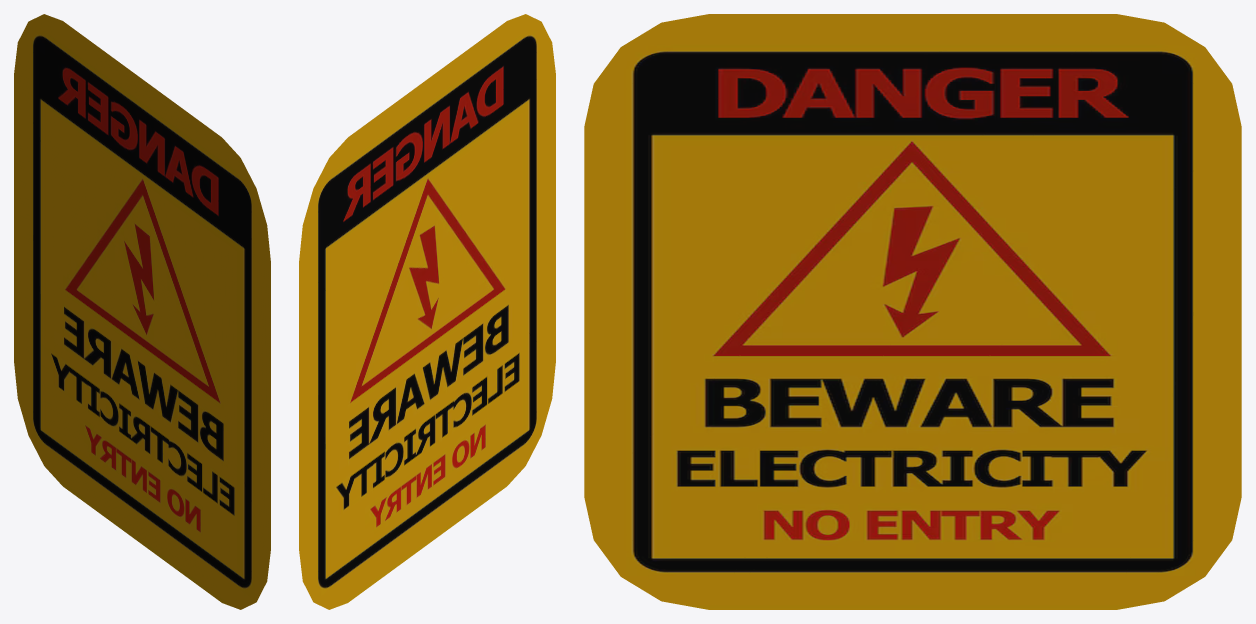
The model's file is cuidadoSign.fbx.
3 views of the same model, side by side, from view 1: azimuth 30°, elevation 25°; view 2: azimuth 150°, elevation 25°; view 3: azimuth 270°, elevation 25° (orthographic). The views are drawn at different scales.
Visible parts, largest first — view 1: Plane; view 2: Plane; view 3: Plane.
Part boxes in pixels (box(x1,y1,x2,y2)): Plane: box(14, 14, 270, 609); Plane: box(299, 14, 555, 609); Plane: box(584, 14, 1241, 609).
Bounding box in the file's own units: 1.51e-05 × 200 × 200.
1 material, 1 textured.
